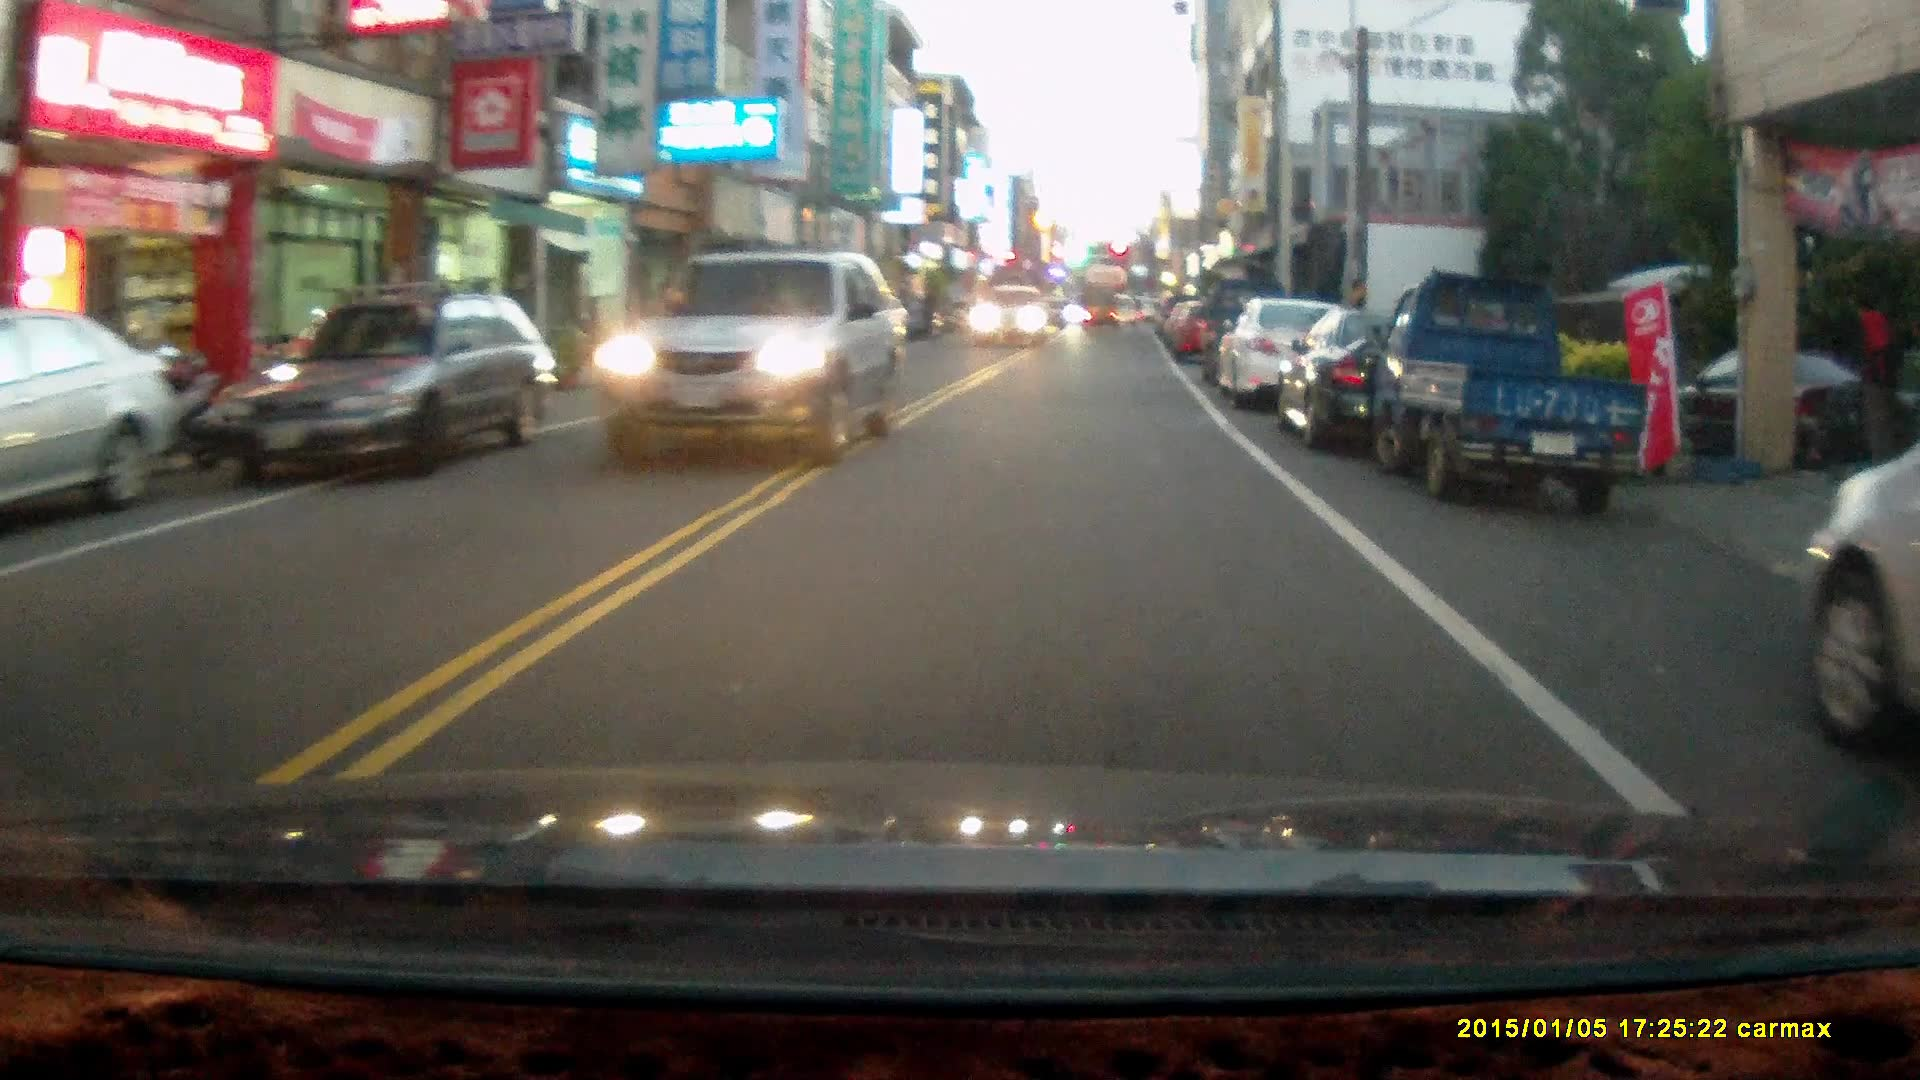pedestrian: (1844, 295, 1903, 489)
vehicle: (195, 284, 564, 486), (1368, 270, 1666, 520), (598, 246, 913, 465), (1798, 442, 1920, 762), (1285, 309, 1517, 448), (1213, 300, 1372, 410), (970, 286, 1052, 350)
